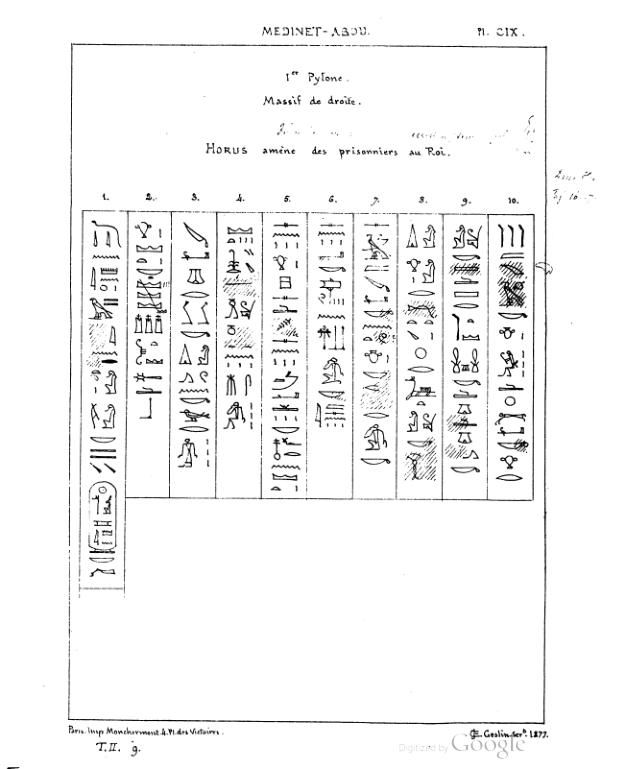circle: (85, 480, 119, 555)
